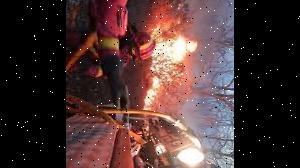fire: (144, 25, 203, 107)
